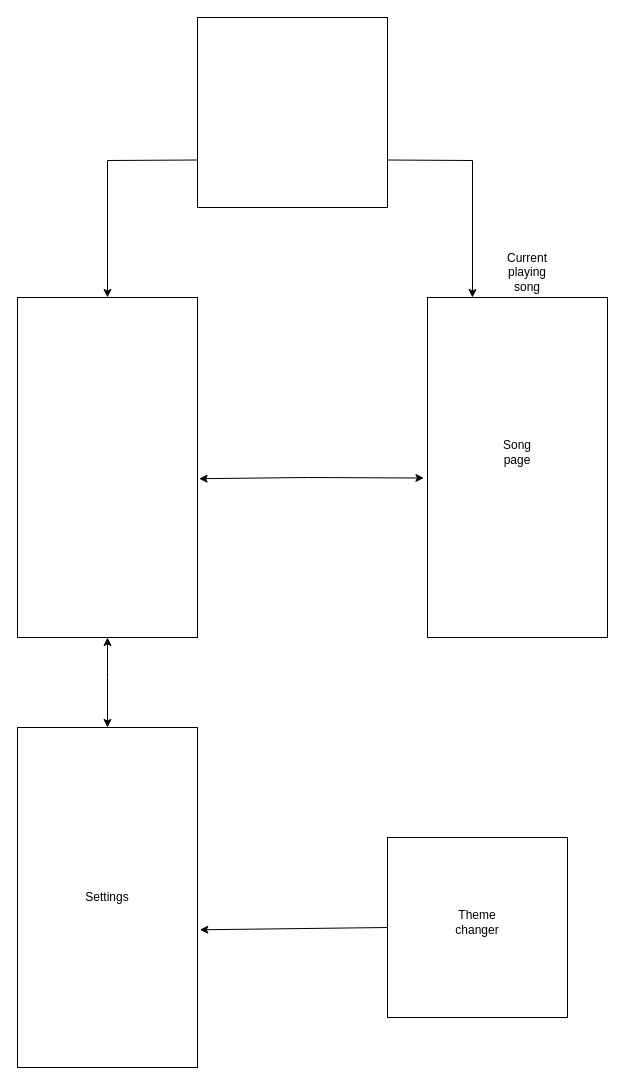
This 625x1085 diagram has some shape labels left out. The centre of each missing label's shape, as x and y in pixels:
Audio player: the point at 292,112
Songs lists: the point at 107,467
